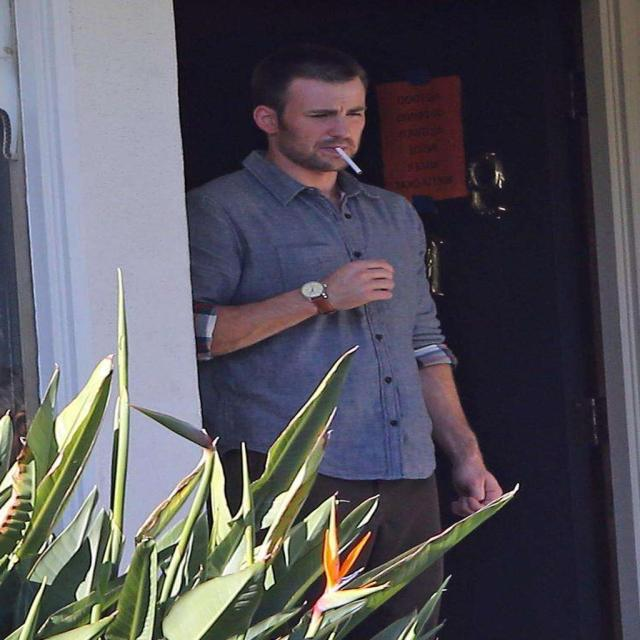smoking: (234, 62, 400, 189)
